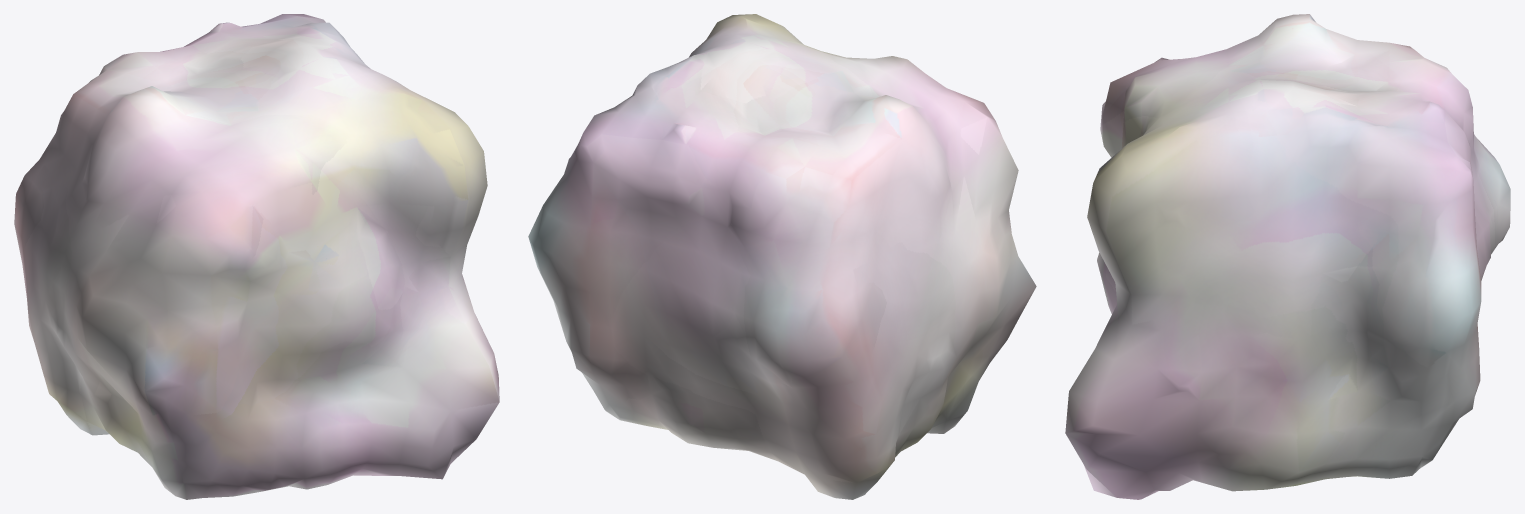
The model's file is cloud_cube_boneless2.fbx.
3 views of the same model, side by side, from view 1: azimuth 30°, elevation 25°; view 2: azimuth 150°, elevation 25°; view 3: azimuth 270°, elevation 25° (orthographic). The views are drawn at different scales.
Parts seen in each view (by area): view 1: Sphere.029; view 2: Sphere.029; view 3: Sphere.029.
Part boxes in pixels (x1,y1,x2,y2): Sphere.029: (14,14,499,499); Sphere.029: (528,14,1036,499); Sphere.029: (1065,14,1510,499).
Size of the model in its own units: 341 by 328 by 338.
